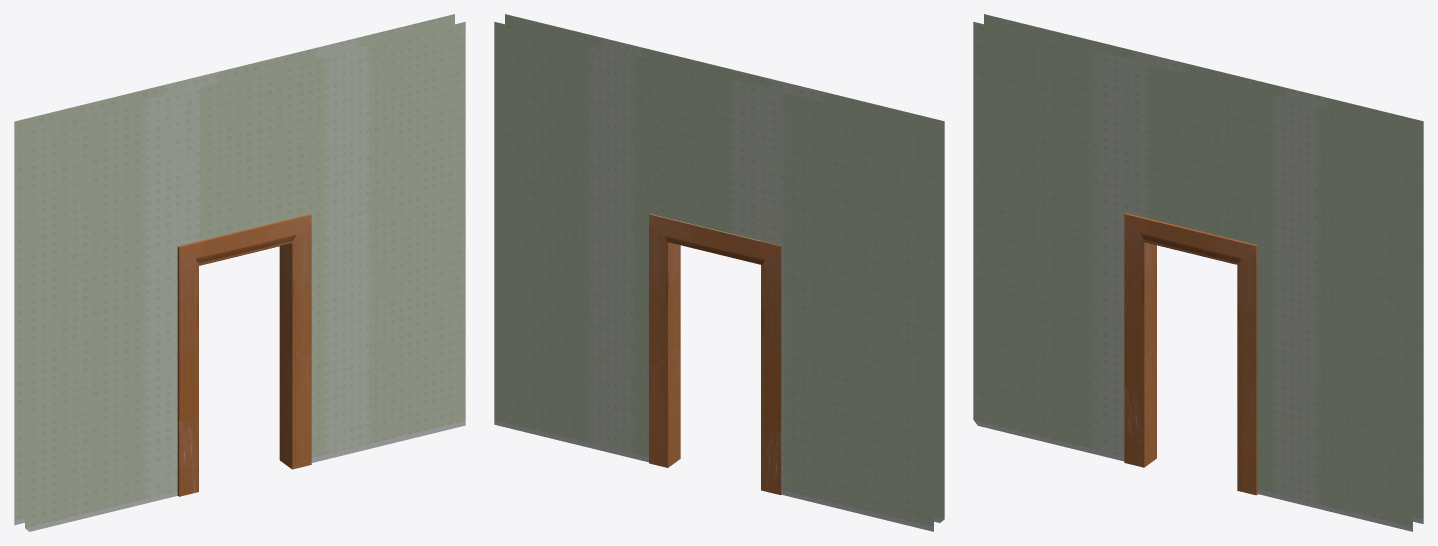
The picture shows the model from 3 angles, left to right: view 1: azimuth 30°, elevation 25°; view 2: azimuth 150°, elevation 25°; view 3: azimuth 330°, elevation 25°; orthographic projection.
Parts seen in each view (by area): view 1: Mesh (52); view 2: Mesh (52); view 3: Mesh (52).
Part boxes in pixels (x1=…): Mesh (52): x1=14, y1=14, x2=465, y2=531; Mesh (52): x1=494, y1=14, x2=944, y2=531; Mesh (52): x1=973, y1=14, x2=1423, y2=531.
Bounding box in the file's own units: 398 × 349 × 19.87.
